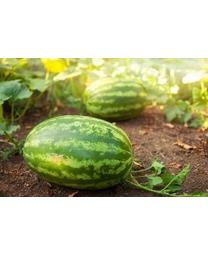watermelon: (18, 113, 132, 189)
